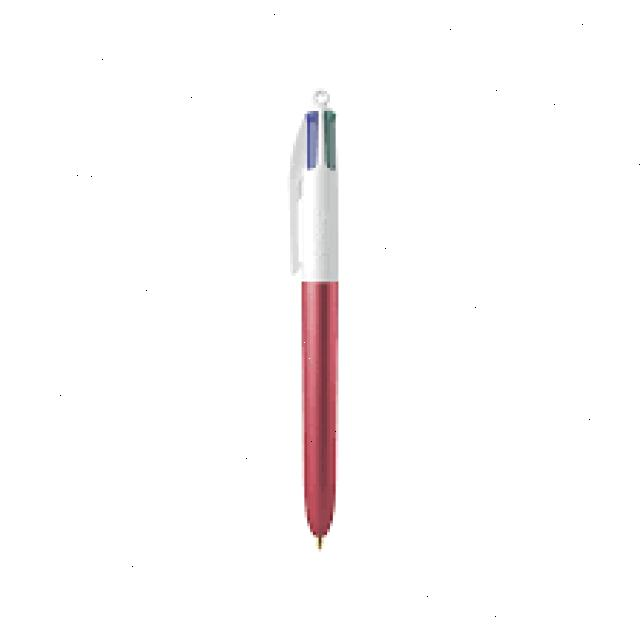pen: (289, 88, 339, 550), (292, 91, 338, 282)
